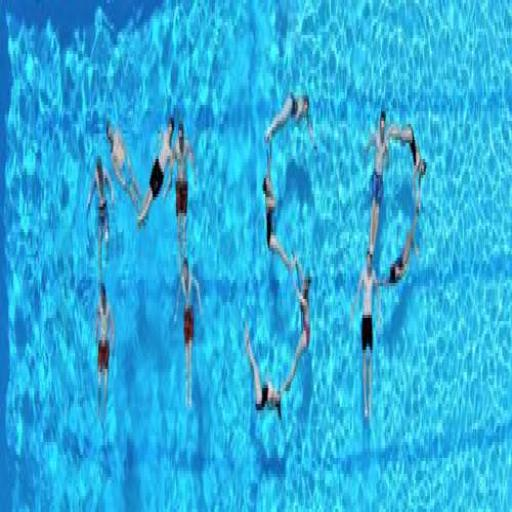swimming: (360, 102, 426, 267), (374, 166, 424, 292), (259, 137, 297, 280), (350, 245, 380, 426), (134, 108, 176, 232), (171, 252, 203, 414), (280, 251, 314, 398), (165, 114, 196, 261), (262, 83, 319, 162), (242, 321, 284, 426), (84, 150, 116, 274), (104, 111, 140, 210), (92, 277, 115, 423)
